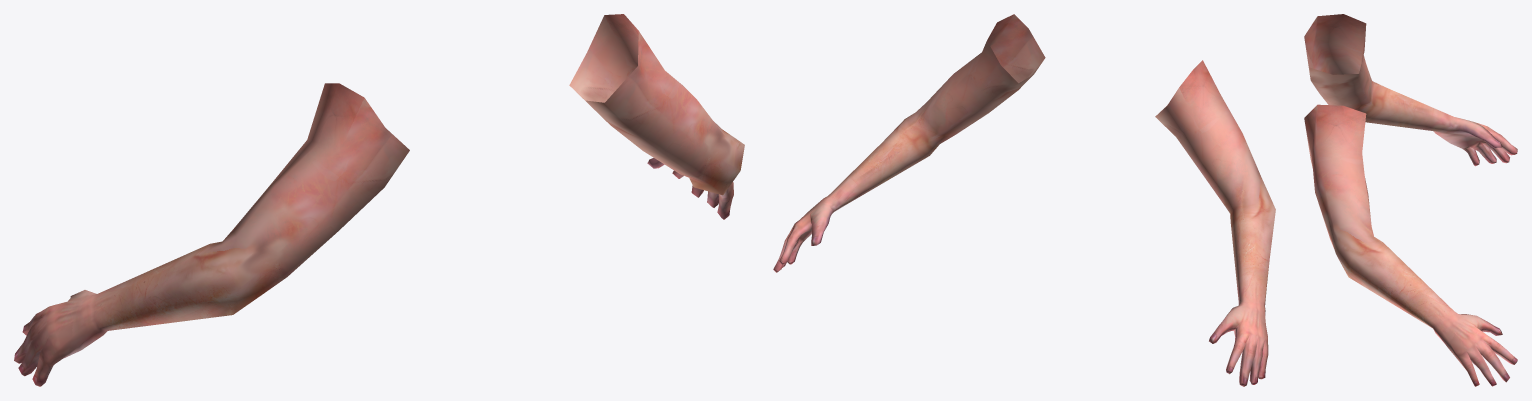
File: arms_split.glb
The picture shows the model from 3 angles, left to right: view 1: azimuth 30°, elevation 25°; view 2: azimuth 150°, elevation 25°; view 3: azimuth 270°, elevation 25°; orthographic projection. The views are drawn at different scales.
Visible parts, largest first — view 1: bras_gauche, bras_droit; view 2: bras_gauche, bras_droit; view 3: bras_droit, bras_gauche.
Boxes of the visible parts, x1,y1,x2,y2 form: bras_gauche: [14, 83, 409, 386]; bras_droit: [569, 14, 744, 219]; bras_gauche: [1155, 60, 1275, 386]; bras_droit: [773, 14, 1045, 272]; bras_droit: [1304, 104, 1517, 386]; bras_gauche: [1304, 14, 1517, 166].
Size of the model in its own units: 10.97 by 4.93 by 4.41.
Materials: 1 (1 with a texture image).
